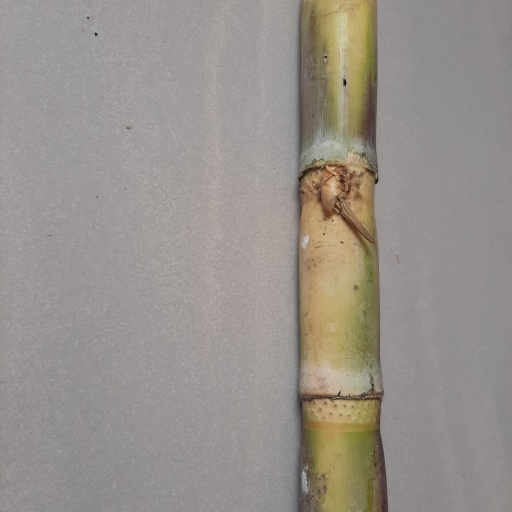Sprouted_Bud: (318, 166, 360, 228)
